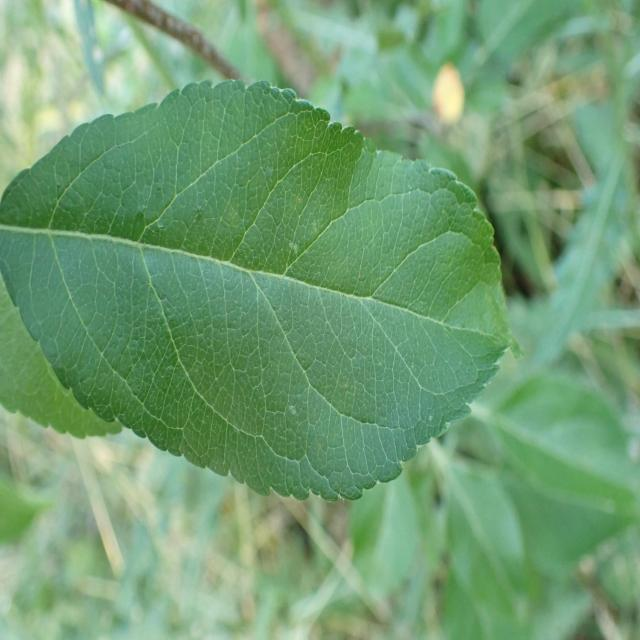healthy: (2, 77, 516, 504), (1, 268, 125, 440)
